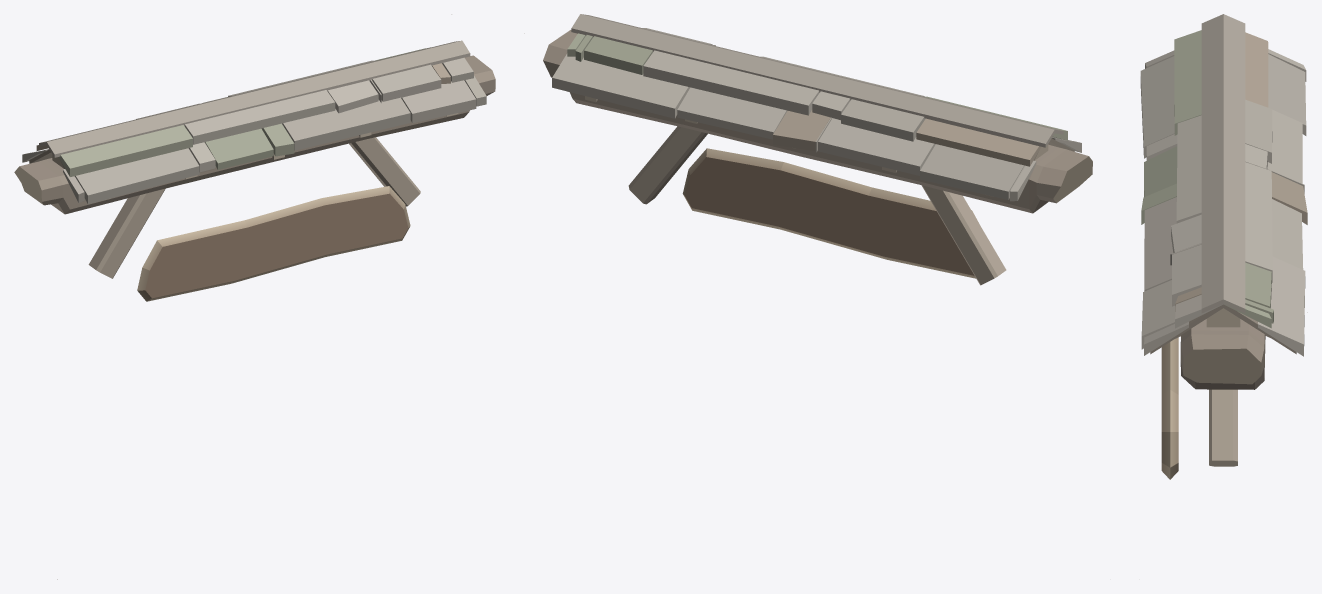
Rendered from CreekGateArch_wood.glb.
The picture shows the model from 3 angles, left to right: view 1: azimuth 30°, elevation 25°; view 2: azimuth 150°, elevation 25°; view 3: azimuth 270°, elevation 25°; orthographic projection. The views are drawn at different scales.
Visible parts, largest first — view 1: CreekGateArch_wood; view 2: CreekGateArch_wood; view 3: CreekGateArch_wood.
Boxes of the visible parts, x1,y1,x2,y2 form: CreekGateArch_wood: (14,14,495,579); CreekGateArch_wood: (524,14,1092,285); CreekGateArch_wood: (1140,14,1307,479).
Bounding box in the file's own units: 14.13 × 12.22 × 3.22.
